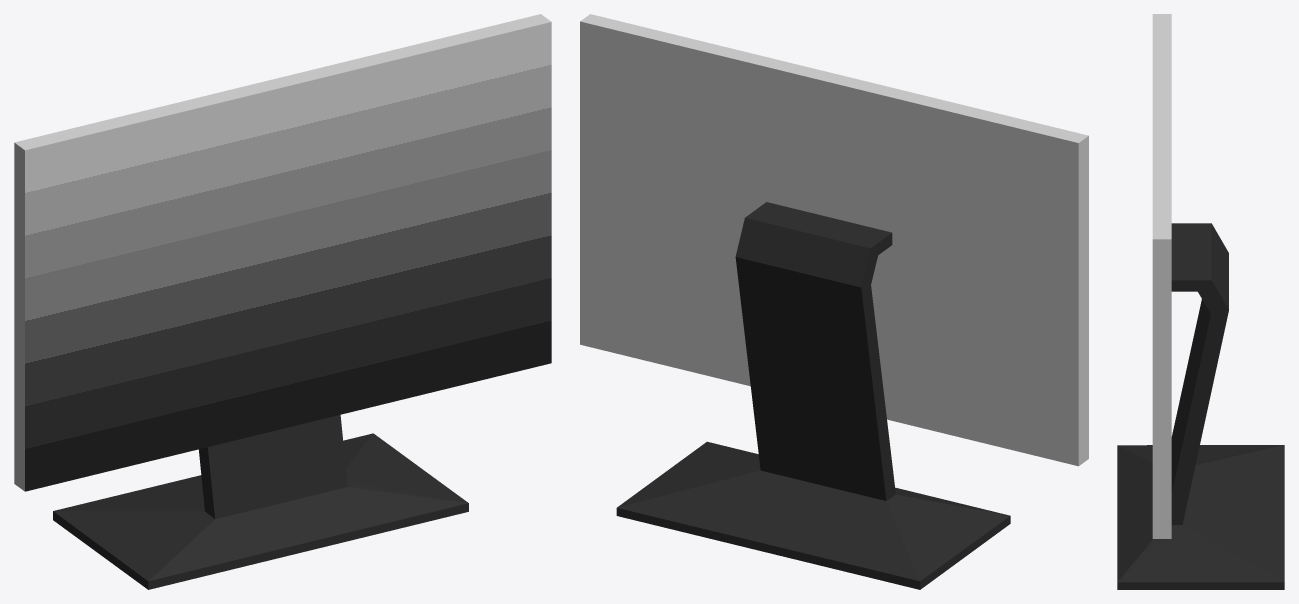
Rendered from monitor_B.FBX.
The picture shows the model from 3 angles, left to right: view 1: azimuth 30°, elevation 25°; view 2: azimuth 150°, elevation 25°; view 3: azimuth 270°, elevation 25°; orthographic projection. The views are drawn at different scales.
Visible parts, largest first — view 1: monitor_B_screen, monitor_B; view 2: monitor_B_screen, monitor_B; view 3: monitor_B, monitor_B_screen.
Part boxes in pixels (x1,y1,x2,y2): monitor_B_screen: (14, 14, 551, 491); monitor_B: (53, 415, 468, 589); monitor_B_screen: (580, 14, 1088, 466); monitor_B: (616, 202, 1010, 589); monitor_B: (1117, 223, 1284, 589); monitor_B_screen: (1152, 14, 1171, 538).
Size of the model in its own units: 29.05 by 23.71 by 9.11.
